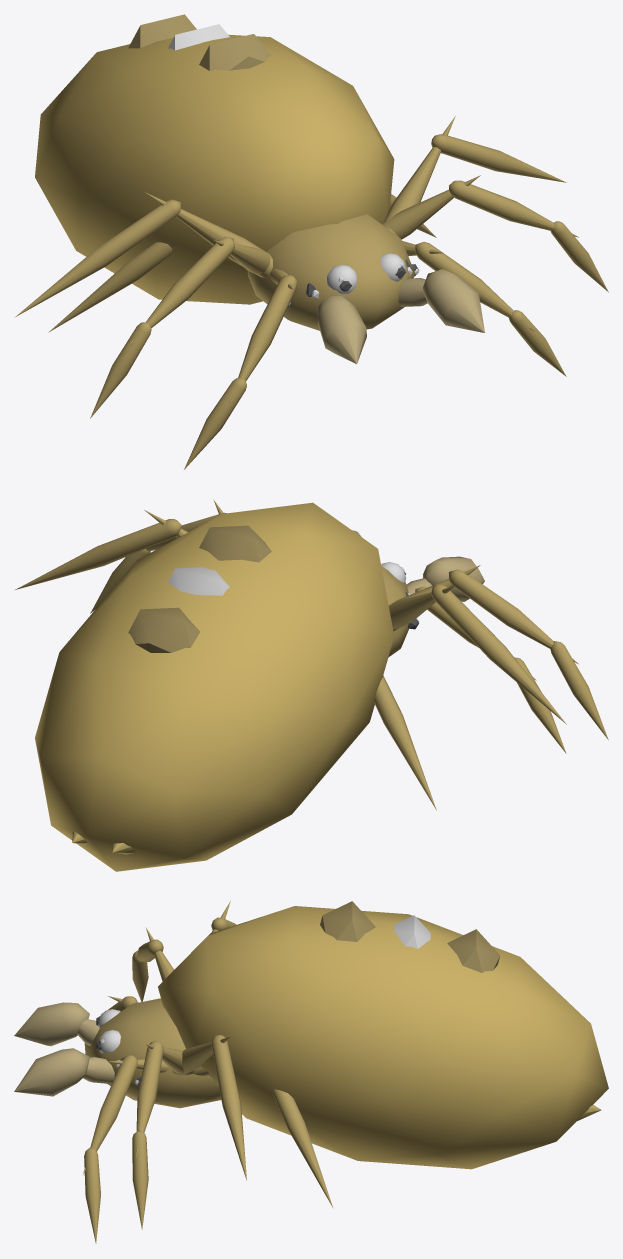
File: cyclosa-bifida.glb
3 views of the same model, one above another, from view 1: azimuth 30°, elevation 25°; view 2: azimuth 150°, elevation 25°; view 3: azimuth 270°, elevation 25° (orthographic). The views are drawn at different scales.
Visible parts, largest first — view 1: abdomen, cephalothorax, leg2-l0, leg2-r0, leg1-r0, leg3-r0, leg1-l0, leg3-l0, palp-l1, palp-r1, leg0-r0, palp-l0 (+1 smaller); view 2: abdomen, leg2-r0, leg1-r0, leg1-l0, leg0-r0, leg3-r0, palp-r1, leg2-l0, cephalothorax; view 3: abdomen, cephalothorax, leg2-l0, leg3-l0, leg1-l0, palp-l1, palp-r1, leg0-l0, leg2-r0, palp-l0.
Boxes of the visible parts, x1=… form: abdomen: x1=35, y1=14, x2=394, y2=304; cephalothorax: x1=247, y1=214, x2=414, y2=330; leg2-l0: x1=382, y1=175, x2=608, y2=292; leg2-r0: x1=90, y1=237, x2=270, y2=418; leg1-r0: x1=15, y1=192, x2=272, y2=316; leg3-r0: x1=184, y1=268, x2=297, y2=469; leg1-l0: x1=384, y1=116, x2=566, y2=235; leg3-l0: x1=402, y1=241, x2=566, y2=376; palp-l1: x1=423, y1=269, x2=484, y2=332; palp-r1: x1=317, y1=295, x2=366, y2=364; leg0-r0: x1=48, y1=242, x2=172, y2=332; palp-l0: x1=398, y1=278, x2=427, y2=306; abdomen: x1=35, y1=502, x2=394, y2=871; leg2-r0: x1=389, y1=565, x2=608, y2=740; leg1-r0: x1=388, y1=584, x2=566, y2=724; leg1-l0: x1=15, y1=510, x2=188, y2=589; leg0-r0: x1=374, y1=675, x2=436, y2=810; leg3-r0: x1=415, y1=586, x2=566, y2=753; palp-r1: x1=423, y1=556, x2=484, y2=601; leg2-l0: x1=90, y1=499, x2=226, y2=613; cephalothorax: x1=381, y1=566, x2=408, y2=657; abdomen: x1=158, y1=901, x2=608, y2=1169; cephalothorax: x1=87, y1=998, x2=221, y2=1108; leg2-l0: x1=132, y1=1041, x2=194, y2=1229; leg3-l0: x1=83, y1=1054, x2=169, y2=1243; leg1-l0: x1=172, y1=1035, x2=246, y2=1180; palp-l1: x1=14, y1=1048, x2=89, y2=1096; palp-r1: x1=14, y1=1002, x2=89, y2=1046; leg0-l0: x1=193, y1=1066, x2=333, y2=1208; leg2-r0: x1=132, y1=928, x2=174, y2=1001; palp-l0: x1=83, y1=1056, x2=114, y2=1083.
Size of the model in its own units: 0.4804 by 0.2321 by 0.4998.
